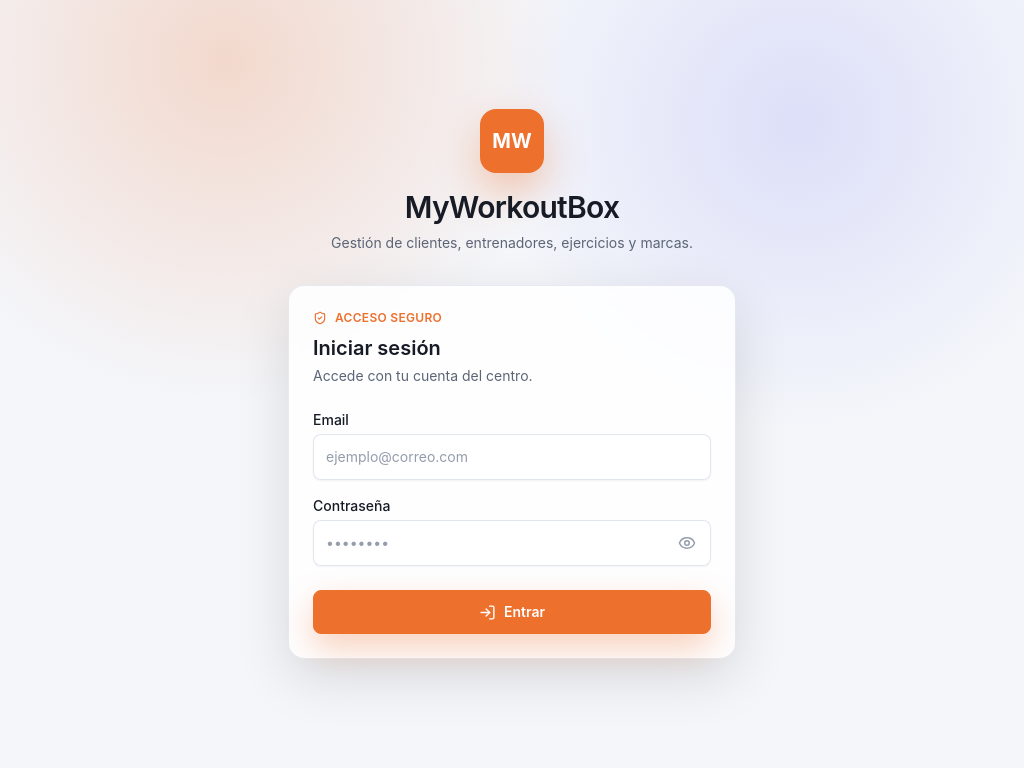
Test: LoginPage › shows a generic error when credentials are rejected
Step 1. Type "admin-demo@gym.com" into the field labelled "Email" → x=512, y=457, box [313,434,711,480]
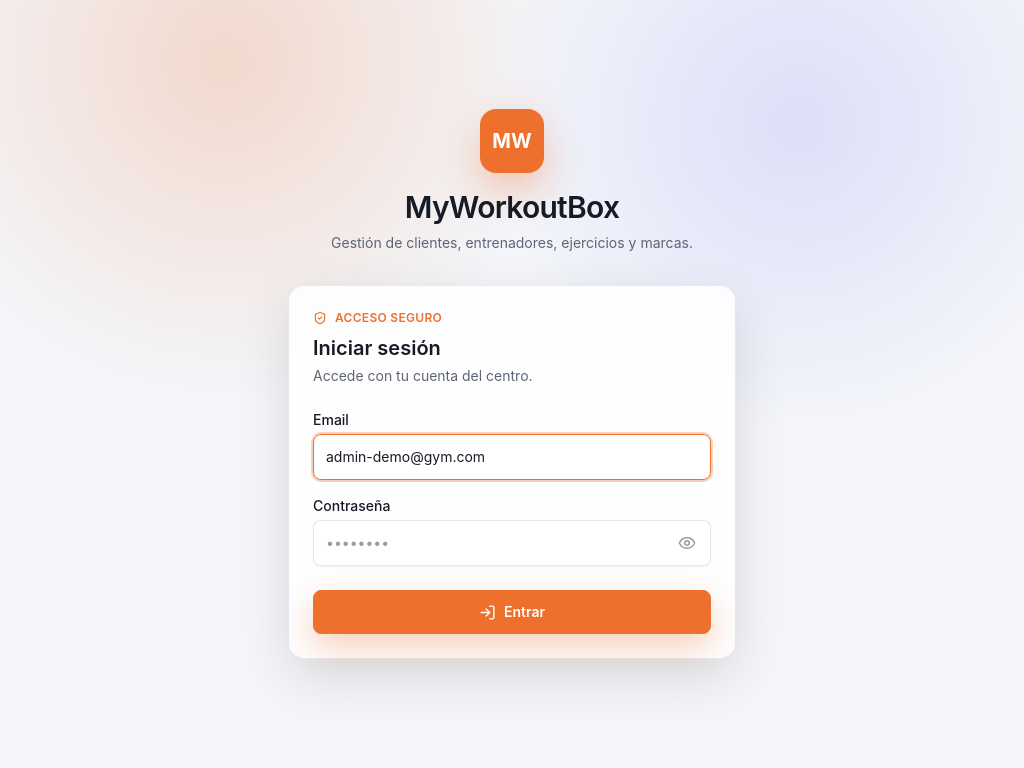
Step 2. Type "wrong" into the password field labelled "Contraseña" → x=512, y=543, box [313,520,711,566]
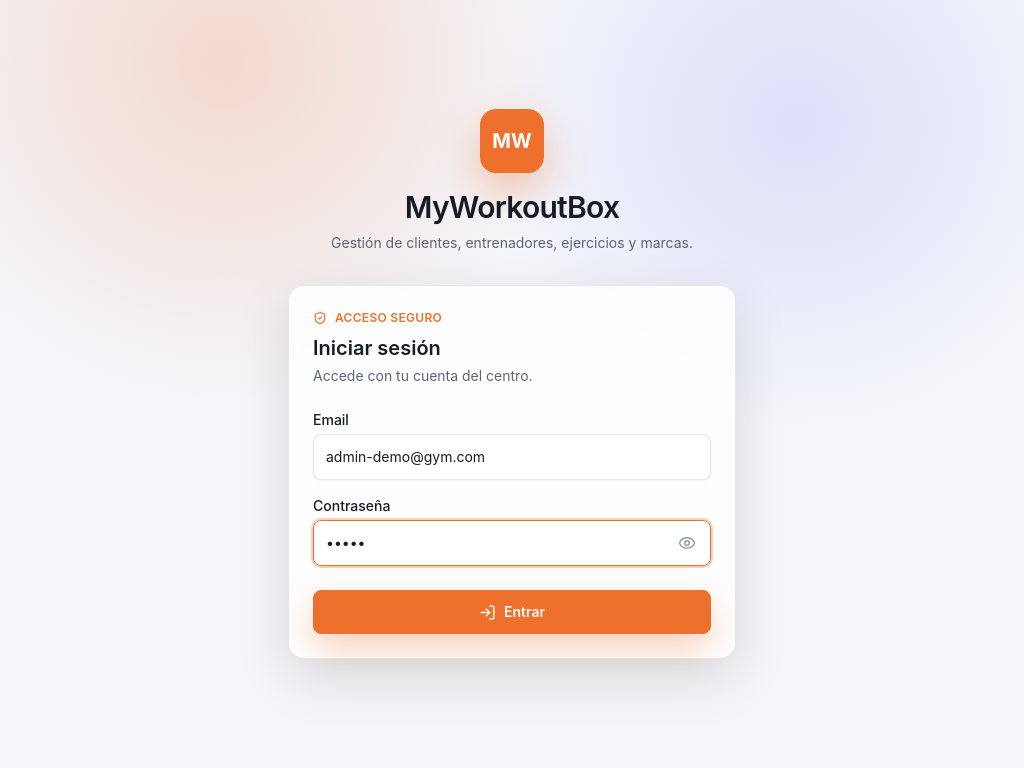
Step 3. Click the button "Entrar" → x=512, y=612, box [313,590,711,634]
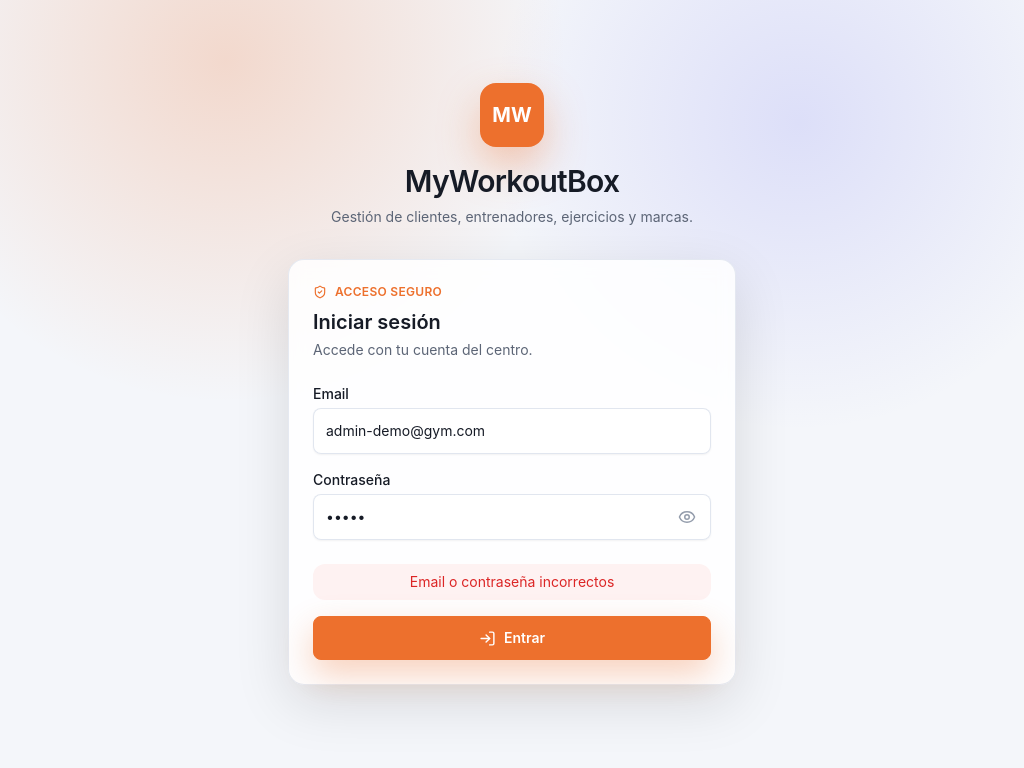
Result: the message reads "Email o contraseña incorrectos" at [410,573,614,590]
